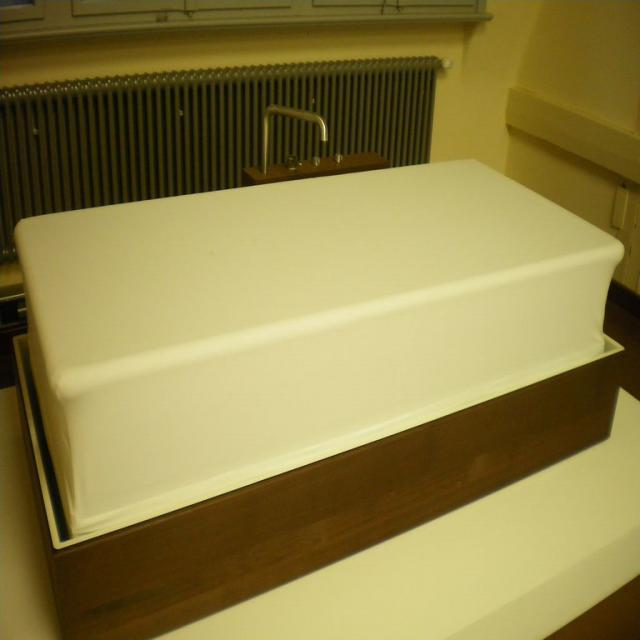Box: (11, 157, 624, 640)
